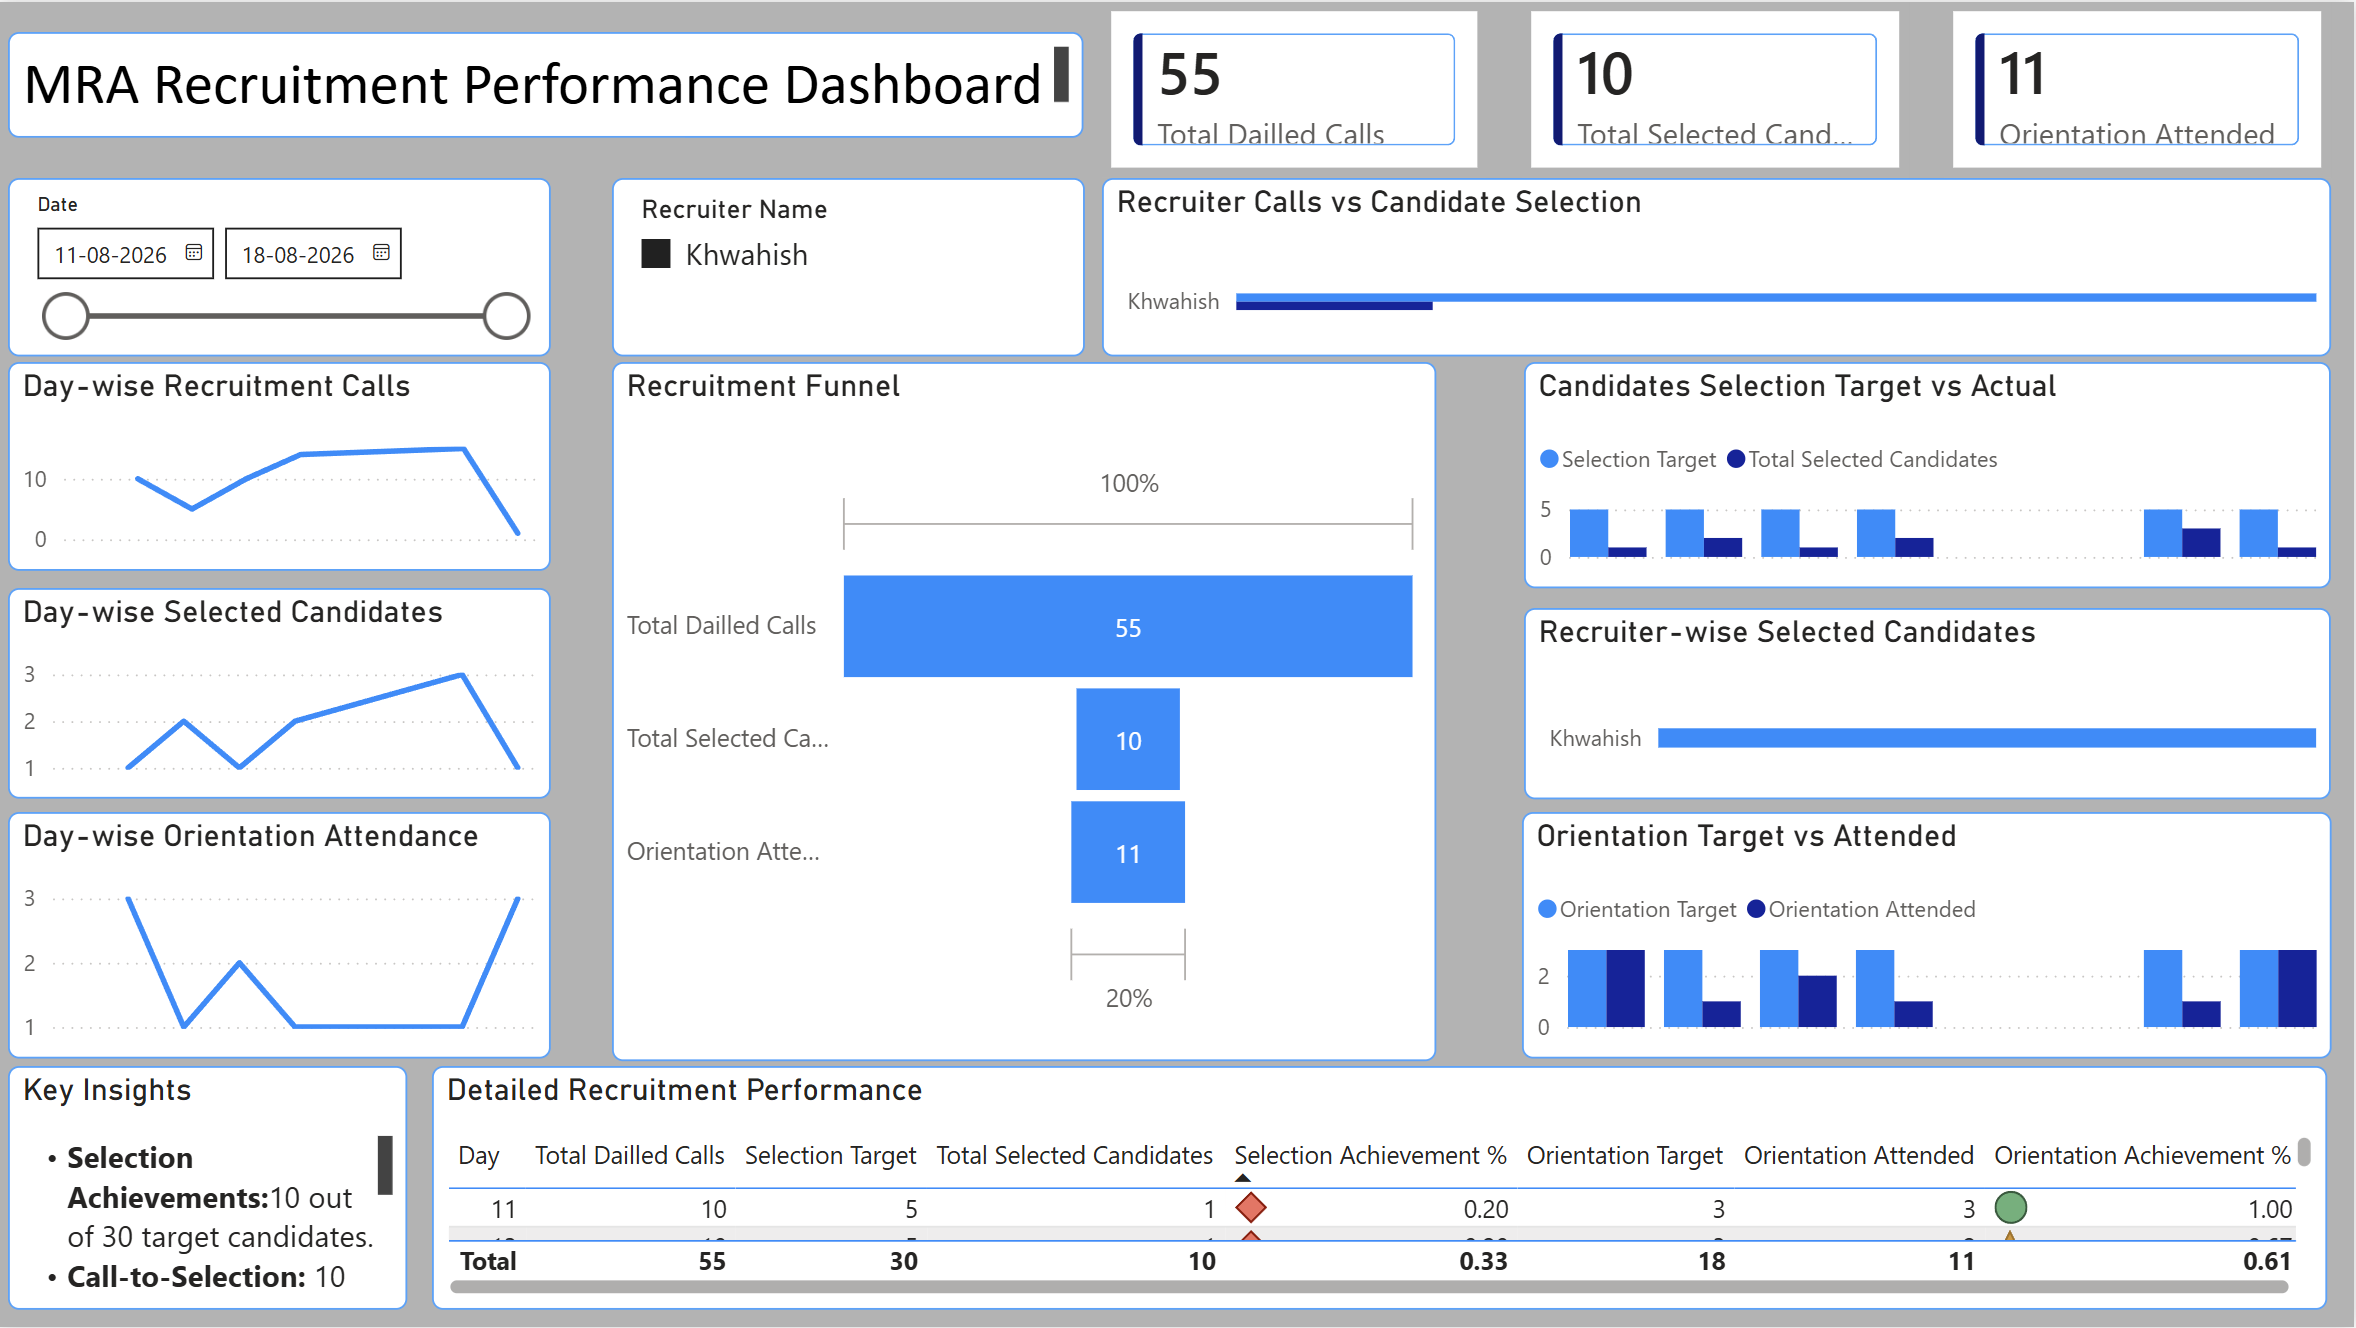

Layout of this report page (visuals, bound fields, positions):
{"tool":"powerbi","page":{"name":"Page 1","canvas":[1280,720],"ordinal":0},"visuals":[{"type":"slicer","fields":{"Values":["MRA Datasets(Sheet1).Date"]},"box":[5.5,95.6,295.1,97],"z":0},{"type":"slicer","fields":{"Values":["MRA Datasets(Sheet1).Recruiter Name"]},"box":[333.3,95.6,256.8,97],"z":1000},{"type":"lineChart","title":"Day-wise Recruitment Calls","fields":{"Category":["MRA Datasets(Sheet1).Date.Variation.Date Hierarchy.Day"],"Y":["MRA Datasets(Sheet1).Total Dailled Calls"]},"box":[5.5,195.3,295.1,113.4],"z":2000},{"type":"lineChart","title":" Day-wise Selected Candidates","fields":{"Category":["MRA Datasets(Sheet1).Date.Variation.Date Hierarchy.Day"],"Y":["MRA Datasets(Sheet1).Total Selected Candidates"]},"box":[5.5,318.3,295.1,114.7],"z":3000},{"type":"clusteredColumnChart","title":"Candidates Selection Target vs Actual","fields":{"Category":["MRA Datasets(Sheet1).Date.Variation.Date Hierarchy.Day"],"Y":["MRA Datasets(Sheet1).Selection Target","MRA Datasets(Sheet1).Total Selected Candidates"]},"box":[829.2,195.3,438.5,122.9],"z":4000},{"type":"funnel","title":"Recruitment Funnel","fields":{"Category":["Recruitment Funnel.Stage"],"Y":["Recruitment Funnel.Funnel Value"]},"box":[333.3,195.3,448.1,379.8],"z":5000},{"type":"hundredPercentStackedBarChart","title":"Recruiter-wise Selected Candidates","fields":{"Category":["MRA Datasets(Sheet1).Recruiter Name"],"Y":["MRA Datasets(Sheet1).Total Selected Candidates"]},"box":[829.2,329.2,438.5,103.8],"z":6000},{"type":"clusteredBarChart","title":"Recruiter Calls vs Candidate Selection","fields":{"Category":["MRA Datasets(Sheet1).Recruiter Name"],"Y":["MRA Datasets(Sheet1).Total Dailled Calls","MRA Datasets(Sheet1).Total Selected Candidates"]},"box":[599.7,95.6,668,97],"z":7000},{"type":"clusteredColumnChart","title":"Orientation Target vs Attended","fields":{"Category":["MRA Datasets(Sheet1).Date.Variation.Date Hierarchy.Day"],"Y":["MRA Datasets(Sheet1).Orientation Target","MRA Datasets(Sheet1).Orientation Attended"]},"box":[827.8,439.9,439.9,133.9],"z":8000},{"type":"lineChart","title":"Day-wise Orientation Attendance","fields":{"Category":["MRA Datasets(Sheet1).Date.Variation.Date Hierarchy.Day"],"Y":["MRA Datasets(Sheet1).Orientation Attended"]},"box":[5.5,439.9,295.1,133.9],"z":9000},{"type":"tableEx","title":"Detailed Recruitment Performance","fields":{"Values":["MRA Datasets(Sheet1).Date.Variation.Date Hierarchy.Day","MRA Datasets(Sheet1).Total Dailled Calls","MRA Datasets(Sheet1).Selection Target","MRA Datasets(Sheet1).Total Selected Candidates","MRA Datasets(Sheet1).Selection Achievement %","MRA Datasets(Sheet1).Orientation Target","MRA Datasets(Sheet1).Orientation Attended","MRA Datasets(Sheet1).Orientation Achievement %"]},"box":[236.3,577.8,1030,132.5],"z":10000},{"type":"textbox","box":[5.5,16.4,584.7,57.4],"z":11000},{"type":"cardVisual","fields":{"Data":["MRA Datasets(Sheet1).Total Dailled Calls"]},"box":[599.7,0,209,95.6],"z":12000},{"type":"cardVisual","fields":{"Data":["MRA Datasets(Sheet1).Orientation Attended"]},"box":[1057.3,0,210.4,95.6],"z":13000},{"type":"cardVisual","fields":{"Data":["MRA Datasets(Sheet1).Total Selected Candidates"]},"box":[827.8,0,210.4,95.6],"z":14000},{"type":"textbox","title":"Key Insights","box":[5.5,577.8,217.2,132.5],"z":15000}]}

Visuals, with their boxes in screenshot pixels (x1, y1, x2, y2), scaled from the page's 1280x720 canvas onto the 2356x1328 screenshot:
slicer - MRA Datasets(Sheet1).Date: x1=10, y1=176, x2=553, y2=355
slicer - MRA Datasets(Sheet1).Recruiter Name: x1=613, y1=176, x2=1086, y2=355
"Day-wise Recruitment Calls" lineChart: x1=10, y1=360, x2=553, y2=569
" Day-wise Selected Candidates" lineChart: x1=10, y1=587, x2=553, y2=799
"Candidates Selection Target vs Actual" clusteredColumnChart: x1=1526, y1=360, x2=2333, y2=587
"Recruitment Funnel" funnel: x1=613, y1=360, x2=1438, y2=1061
"Recruiter-wise Selected Candidates" hundredPercentStackedBarChart: x1=1526, y1=607, x2=2333, y2=799
"Recruiter Calls vs Candidate Selection" clusteredBarChart: x1=1104, y1=176, x2=2333, y2=355
"Orientation Target vs Attended" clusteredColumnChart: x1=1524, y1=811, x2=2333, y2=1058
"Day-wise Orientation Attendance" lineChart: x1=10, y1=811, x2=553, y2=1058
"Detailed Recruitment Performance" tableEx: x1=435, y1=1066, x2=2331, y2=1310
textbox: x1=10, y1=30, x2=1086, y2=136
cardVisual - MRA Datasets(Sheet1).Total Dailled Calls: x1=1104, y1=0, x2=1489, y2=176
cardVisual - MRA Datasets(Sheet1).Orientation Attended: x1=1946, y1=0, x2=2333, y2=176
cardVisual - MRA Datasets(Sheet1).Total Selected Candidates: x1=1524, y1=0, x2=1911, y2=176
"Key Insights" textbox: x1=10, y1=1066, x2=410, y2=1310
